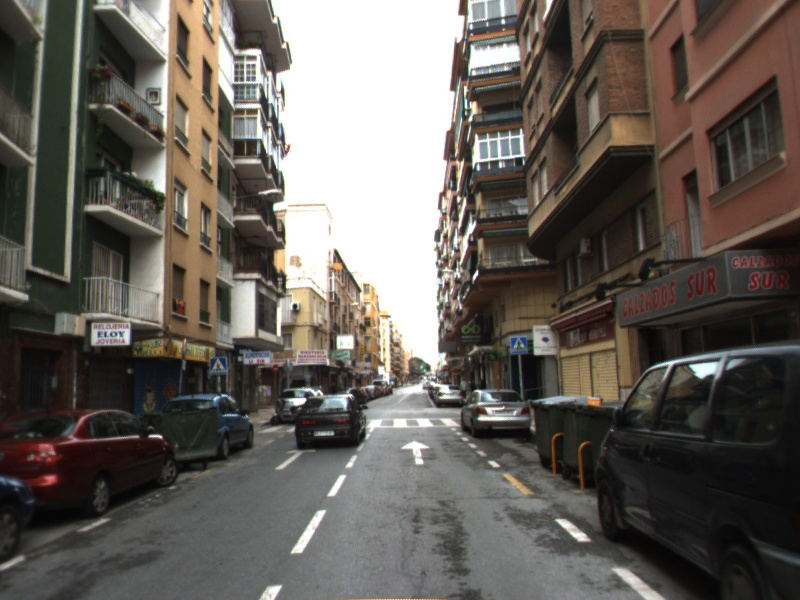STRAIGHT: (273, 446, 318, 472), (399, 438, 433, 466)
